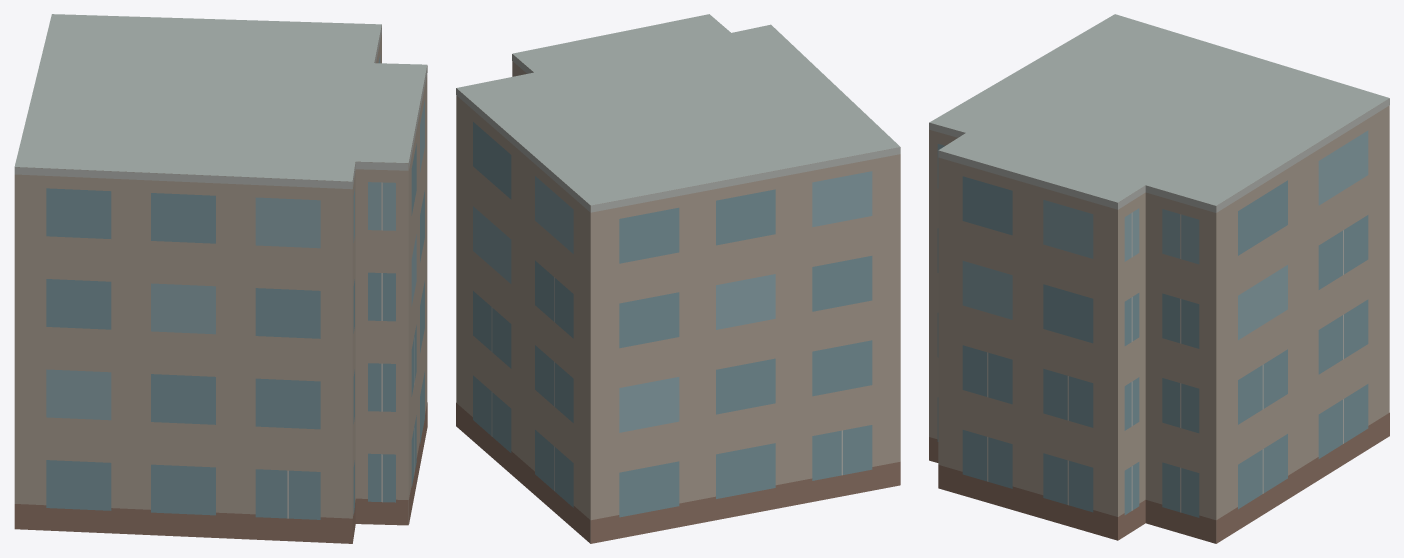
The model's file is survey-upis-32855713.glb.
3 views of the same model, side by side, from view 1: azimuth 30°, elevation 25°; view 2: azimuth 150°, elevation 25°; view 3: azimuth 270°, elevation 25° (orthographic). The views are drawn at different scales.
Parts seen in each view (by area): view 1: survey-upis-32855713.tmp; view 2: survey-upis-32855713.tmp; view 3: survey-upis-32855713.tmp.
Part boxes in pixels (x1,y1,x2,y2): survey-upis-32855713.tmp: (14, 14, 427, 543); survey-upis-32855713.tmp: (456, 14, 900, 543); survey-upis-32855713.tmp: (929, 14, 1389, 543).
Size of the model in its own units: 14.14 by 11.6 by 14.34.
